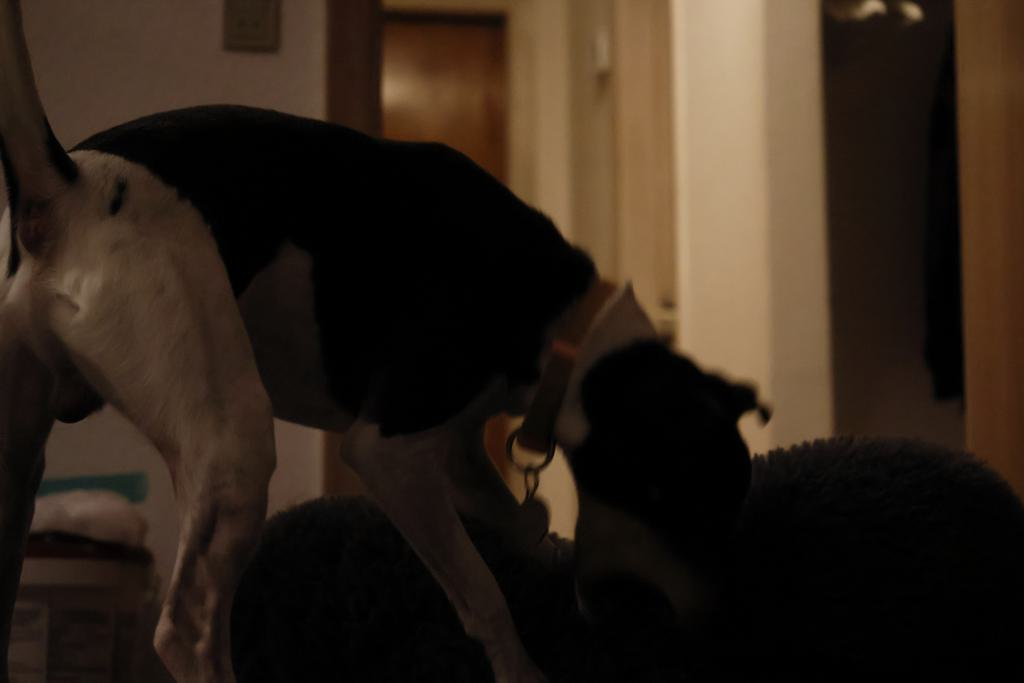Dog: (0, 0, 788, 683)
